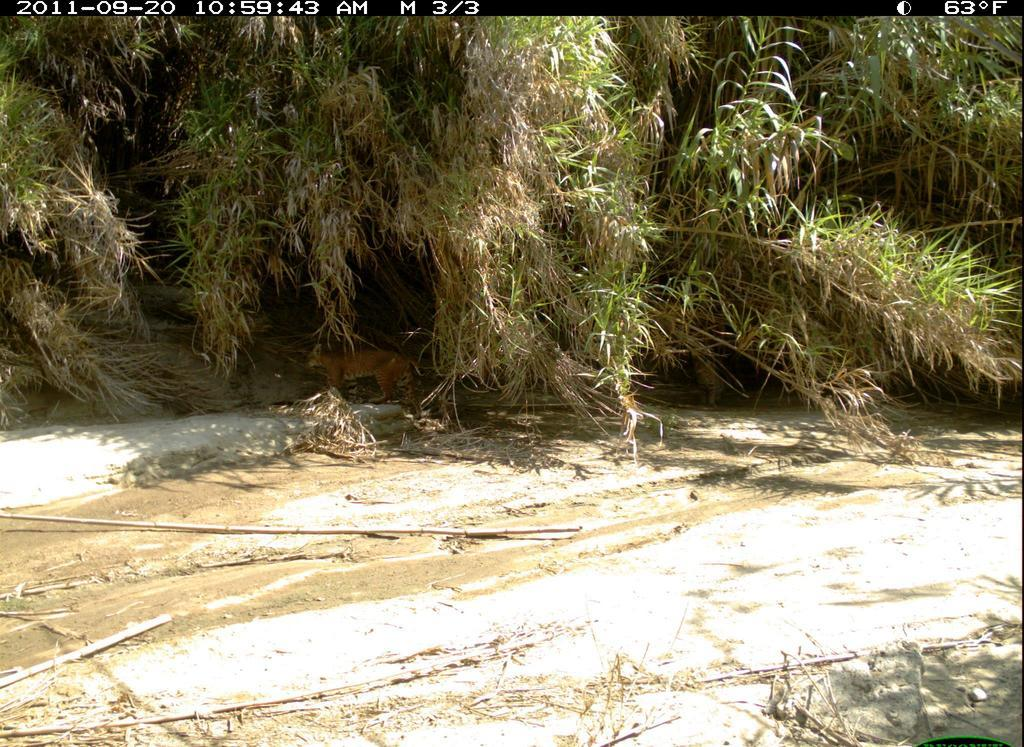bobcat: (301, 340, 432, 423), (684, 338, 735, 429)
